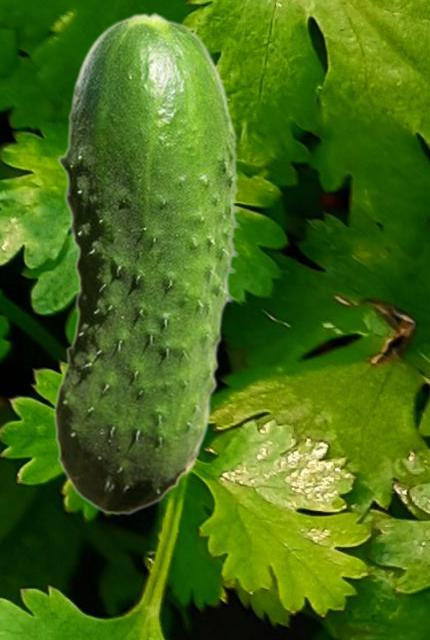cucumber: (53, 11, 240, 514)
